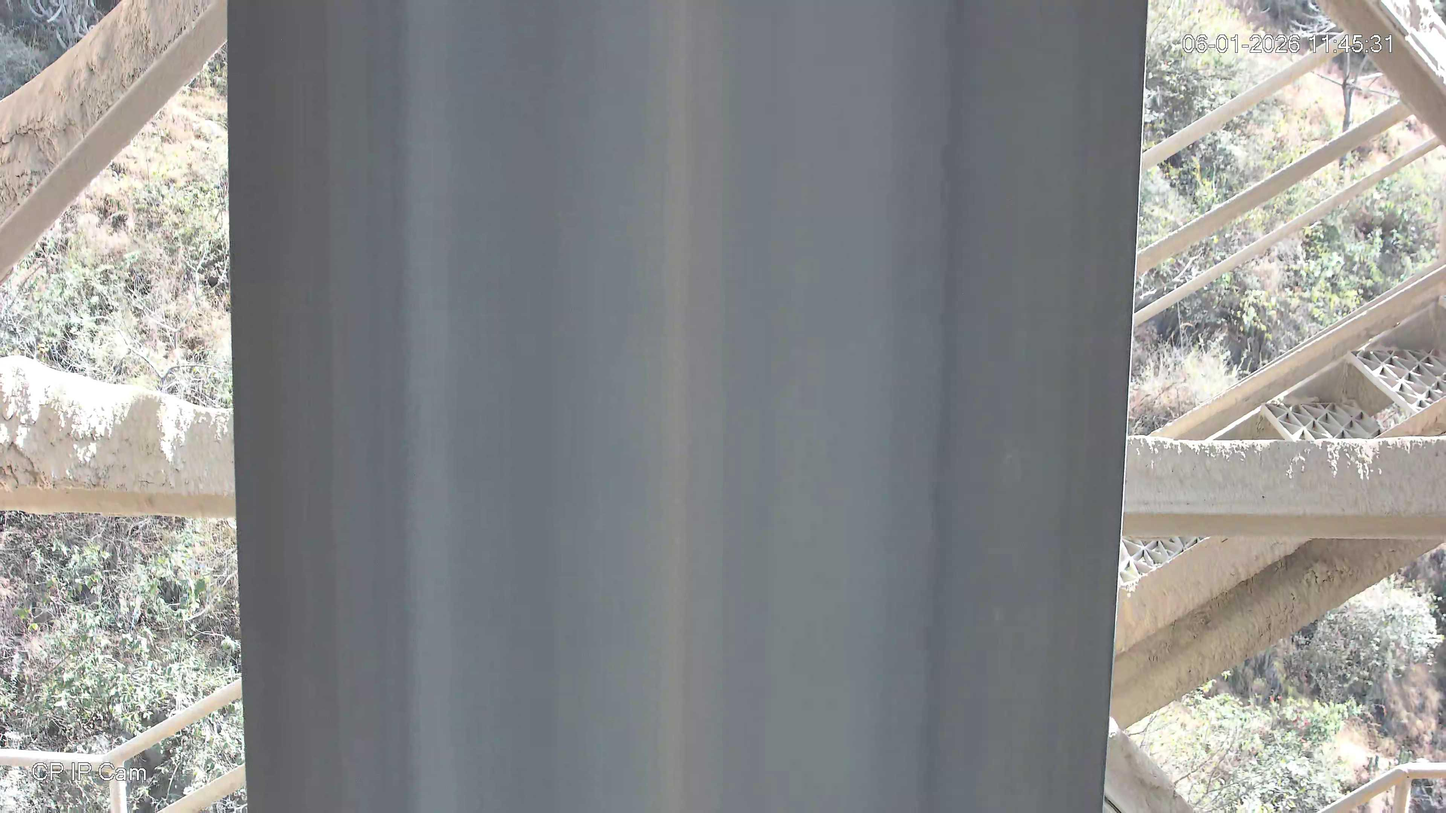belt_roi: (228, 0, 1150, 813)
